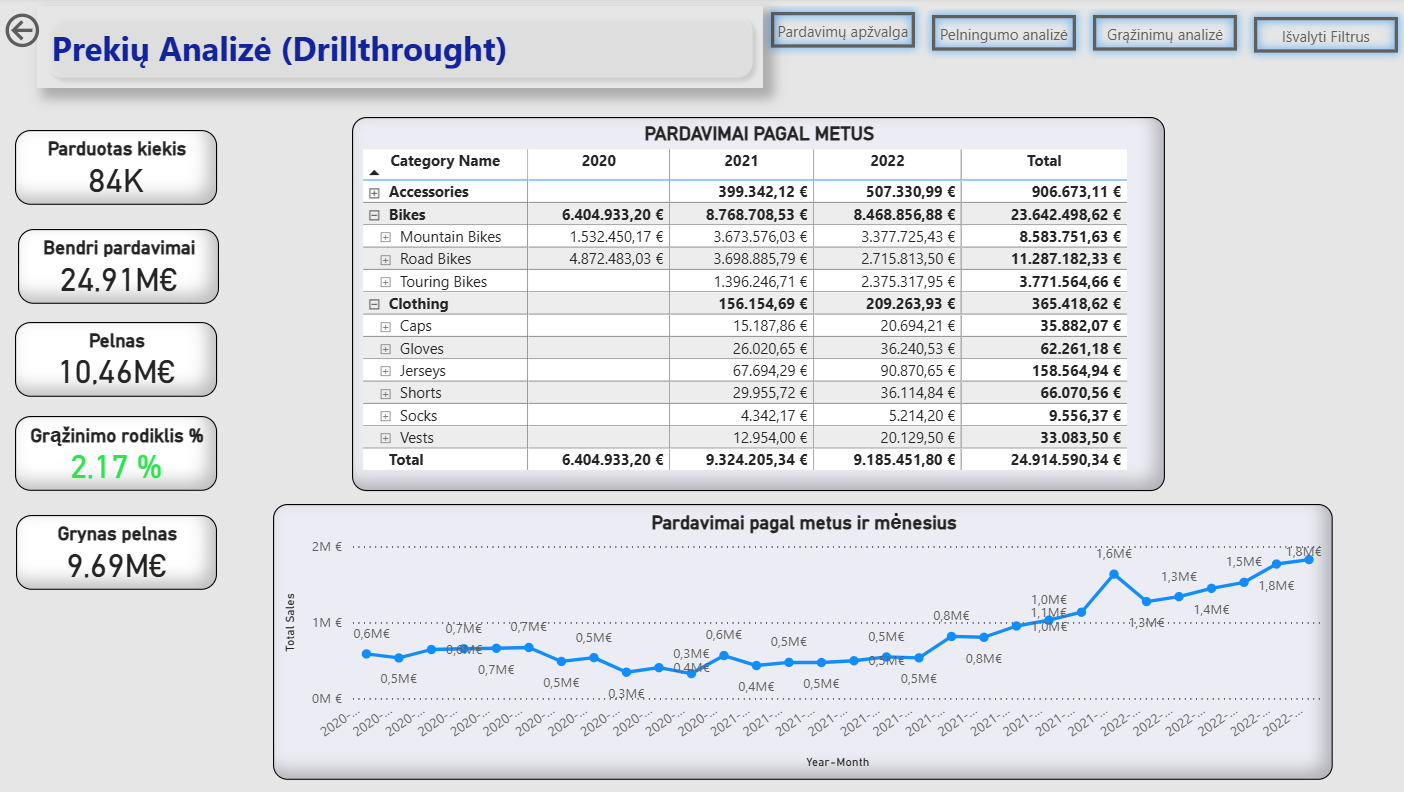

The page's visual inventory and layout, read from the dashboard file:
{"tool":"powerbi","page":{"name":"Prekių analizė (Drillthrough)t","canvas":[1280,720],"ordinal":3},"visuals":[{"type":"pivotTable","title":"PARDAVIMAI PAGAL METUS","fields":{"Rows":["products.Category Name","products.SubCategory Name","products.Product Name"],"Columns":["Date.Year","Date.Quarter"],"Values":["Sum(fact_sales.Sales Amount)"]},"box":[327.1,106.4,727.5,335.2],"z":0},{"type":"actionButton","box":[11.4,9.2,99.5,40],"z":1000},{"type":"lineChart","title":"Pardavimai pagal metus ir mėnesius","fields":{"Y":["Measure.Total Sales"],"Category":["Date.Year-Month","Date.Year"]},"box":[256.2,453,949.4,247.1],"z":2000},{"type":"actionButton","box":[1126.7,9.2,145,48],"z":3000},{"type":"actionButton","box":[838.5,6.9,145,48],"z":4000},{"type":"actionButton","box":[982.6,6.9,145,48],"z":5000},{"type":"actionButton","box":[694.3,4.6,145,48],"z":6000},{"type":"card","title":"Pelnas","fields":{"Values":["Measure.Total Profit"]},"box":[25.2,290.5,180.7,67],"z":7000},{"type":"card","title":"Grąžinimo rodiklis %","fields":{"Values":["Measure.Return Rate %"]},"box":[25.2,374,180.7,67.5],"z":8000},{"type":"card","title":"Parduotas kiekis","fields":{"Values":["Measure.Total Quantity"]},"box":[25.2,117.8,180.7,67.5],"z":9000},{"type":"card","title":"Bendri pardavimai","fields":{"Values":["Measure.Total Sales"]},"box":[27.5,207,179.6,67.5],"z":10000},{"type":"actionButton","box":[44.6,6.9,649.7,73.2],"z":11000},{"type":"card","title":"Grynas pelnas","fields":{"Values":["Measure.Net Profit"]},"box":[26.3,463.3,179.6,67.5],"z":12000}]}

Visuals, with their boxes in screenshot pixels (x1, y1, x2, y2), scaled from the page's 1280x720 canvas onto the 1404x792 screenshot:
"PARDAVIMAI PAGAL METUS" pivotTable: bbox=(359, 117, 1157, 486)
actionButton: bbox=(13, 10, 122, 54)
"Pardavimai pagal metus ir mėnesius" lineChart: bbox=(281, 498, 1322, 770)
actionButton: bbox=(1236, 10, 1395, 63)
actionButton: bbox=(920, 8, 1079, 60)
actionButton: bbox=(1078, 8, 1237, 60)
actionButton: bbox=(762, 5, 921, 58)
"Pelnas" card: bbox=(28, 320, 226, 393)
"Grąžinimo rodiklis %" card: bbox=(28, 411, 226, 486)
"Parduotas kiekis" card: bbox=(28, 130, 226, 204)
"Bendri pardavimai" card: bbox=(30, 228, 227, 302)
actionButton: bbox=(49, 8, 762, 88)
"Grynas pelnas" card: bbox=(29, 510, 226, 584)
